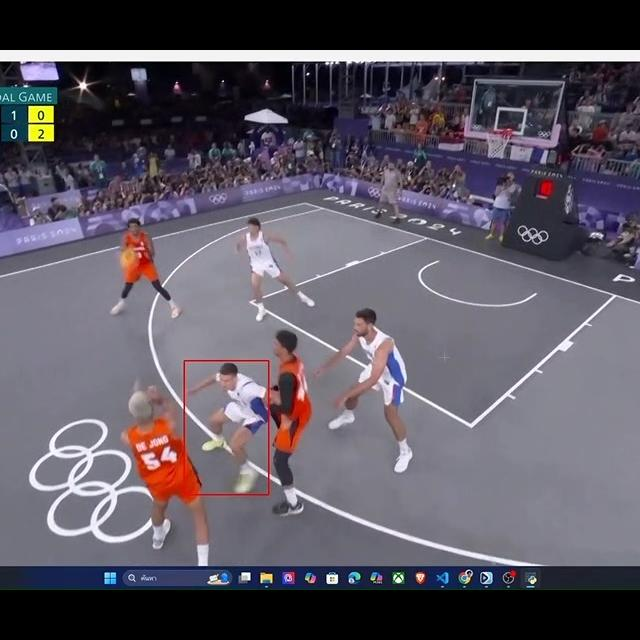basketball: (141, 383, 165, 405)
hoop: (483, 129, 512, 158)
